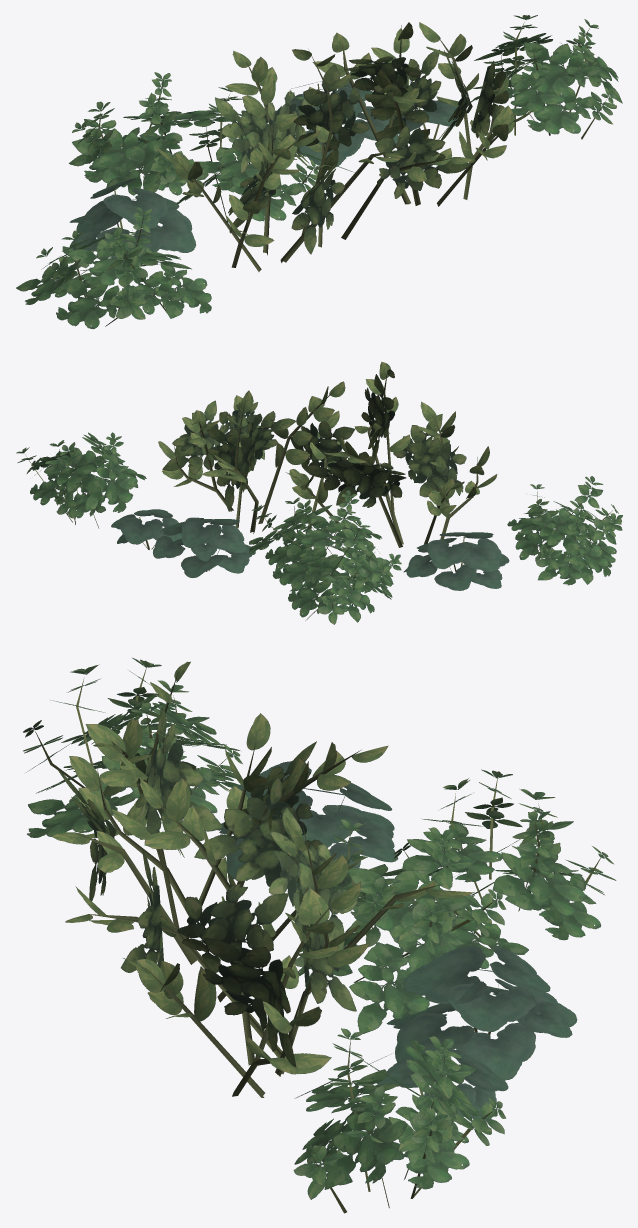
Rendered from Bush.fbx.
3 renders of one model, top to bottom at view 1: azimuth 30°, elevation 25°; view 2: azimuth 150°, elevation 25°; view 3: azimuth 270°, elevation 25°, orthographic. The views are drawn at different scales.
Visible parts, largest first — view 1: SM_d_114_Bush_01a; view 2: SM_d_114_Bush_01a; view 3: SM_d_114_Bush_01a.
Part boxes in pixels (x1,y1,x2,y2): SM_d_114_Bush_01a: (16, 15, 622, 329); SM_d_114_Bush_01a: (16, 361, 622, 624); SM_d_114_Bush_01a: (23, 658, 616, 1213).
Size of the model in its own units: 364 by 123 by 196.
